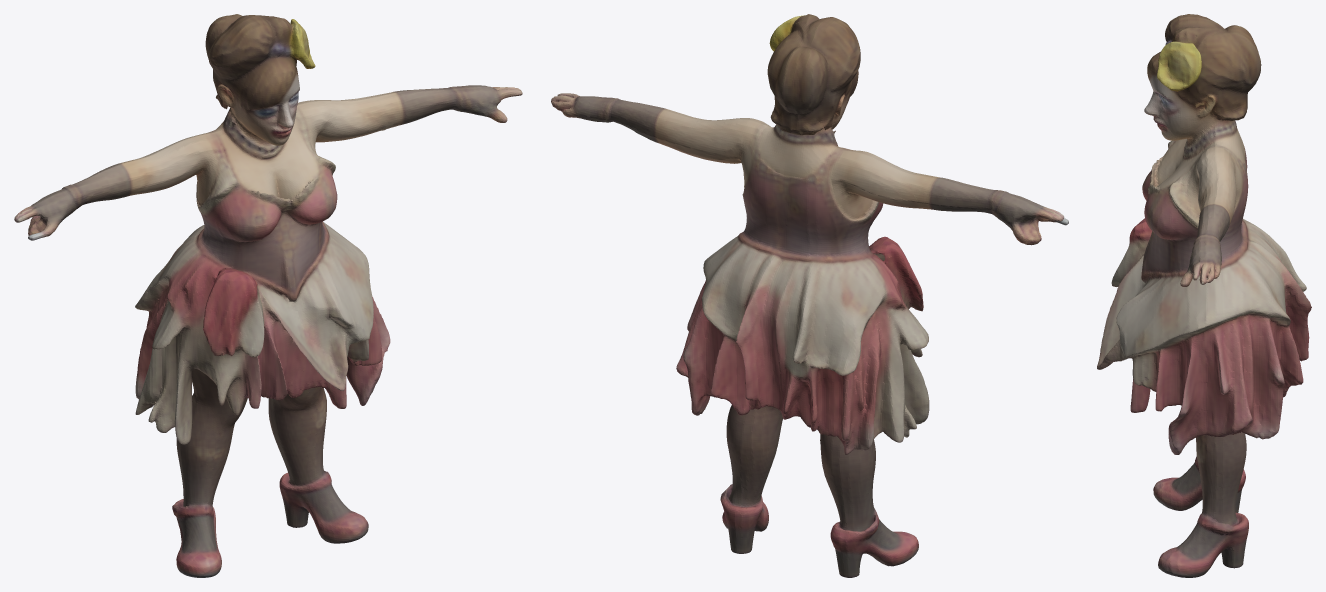
Rendered from questnpc_uschi.glb.
3 renders of one model, left to right at view 1: azimuth 30°, elevation 25°; view 2: azimuth 150°, elevation 25°; view 3: azimuth 270°, elevation 25°, orthographic. The views are drawn at different scales.
Parts seen in each view (by area): view 1: world; view 2: world; view 3: world.
Boxes of the visible parts, x1=… form: world: x1=14, y1=14, x2=522, y2=577; world: x1=551, y1=14, x2=1068, y2=577; world: x1=1097, y1=14, x2=1311, y2=577.
Size of the model in its own units: 0.9996 by 1 by 0.3768.
